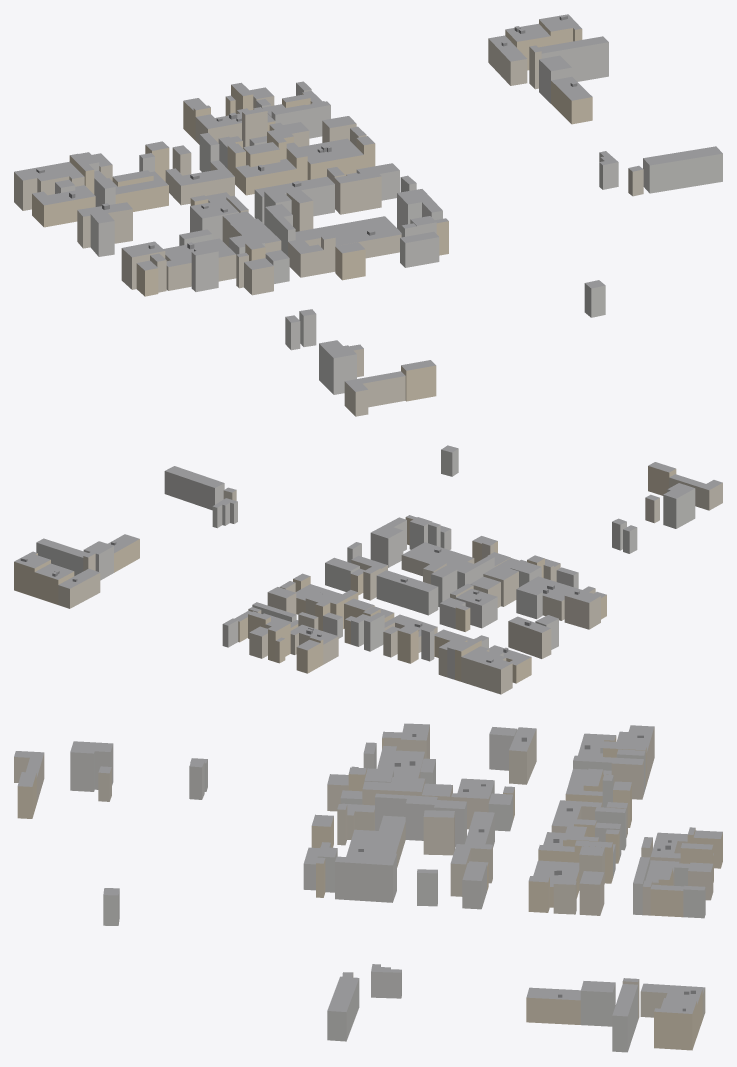
The model's file is building_2_-2.glb.
3 renders of one model, top to bottom at view 1: azimuth 30°, elevation 25°; view 2: azimuth 150°, elevation 25°; view 3: azimuth 270°, elevation 25°, orthographic. The views are drawn at different scales.
Visible parts, largest first — view 1: roof, concrete_light, concrete_warm, sandstone; view 2: concrete_light, roof, concrete_warm, sandstone; view 3: roof, concrete_light, concrete_warm, sandstone.
Part boxes in pixels (x1=…): roof: x1=14, y1=14, x2=722, y2=391; concrete_light: x1=55, y1=42, x2=722, y2=394; concrete_warm: x1=14, y1=38, x2=643, y2=416; sandstone: x1=32, y1=19, x2=592, y2=401; concrete_light: x1=36, y1=449, x2=695, y2=679; roof: x1=14, y1=445, x2=722, y2=669; concrete_warm: x1=58, y1=477, x2=722, y2=694; sandstone: x1=14, y1=466, x2=676, y2=683; roof: x1=14, y1=723, x2=722, y2=1016; concrete_light: x1=70, y1=729, x2=705, y2=1052; concrete_warm: x1=14, y1=725, x2=713, y2=1020; sandstone: x1=17, y1=736, x2=722, y2=1050.
Size of the model in its own units: 254 by 15.78 by 257.
